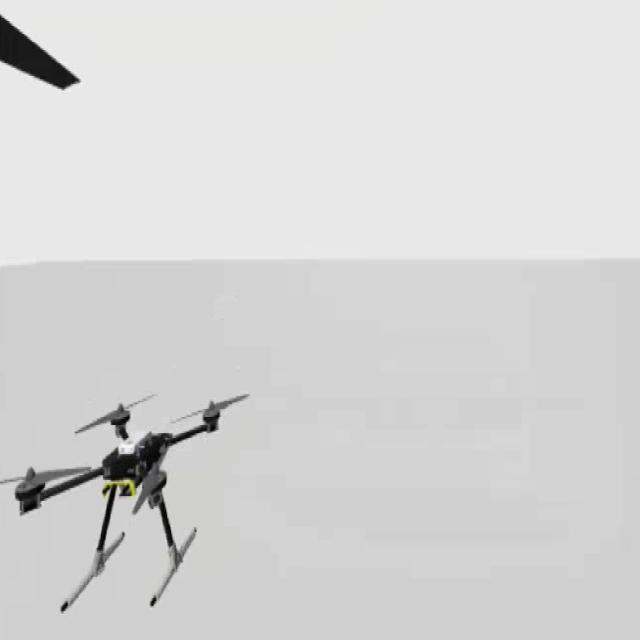drone: (3, 346, 252, 610)
